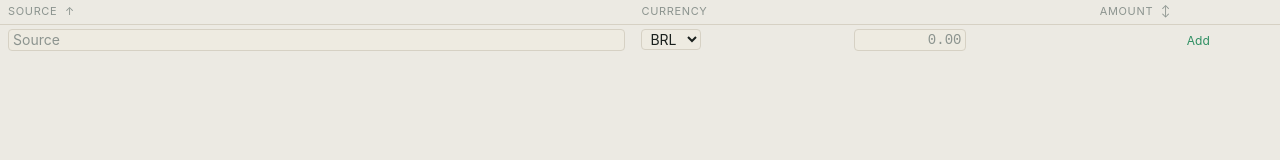
IncomeList — add form › shows error when add fails
Click the button "Add".
click(1198, 41)  # box [1187,33,1210,49]
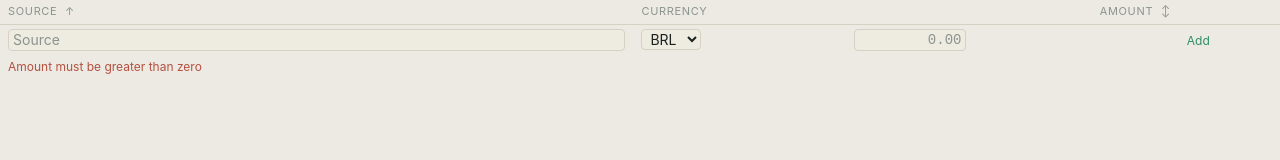
Expected: the text "Amount must be greater than zero" is shown, [0,55,1179,79]
